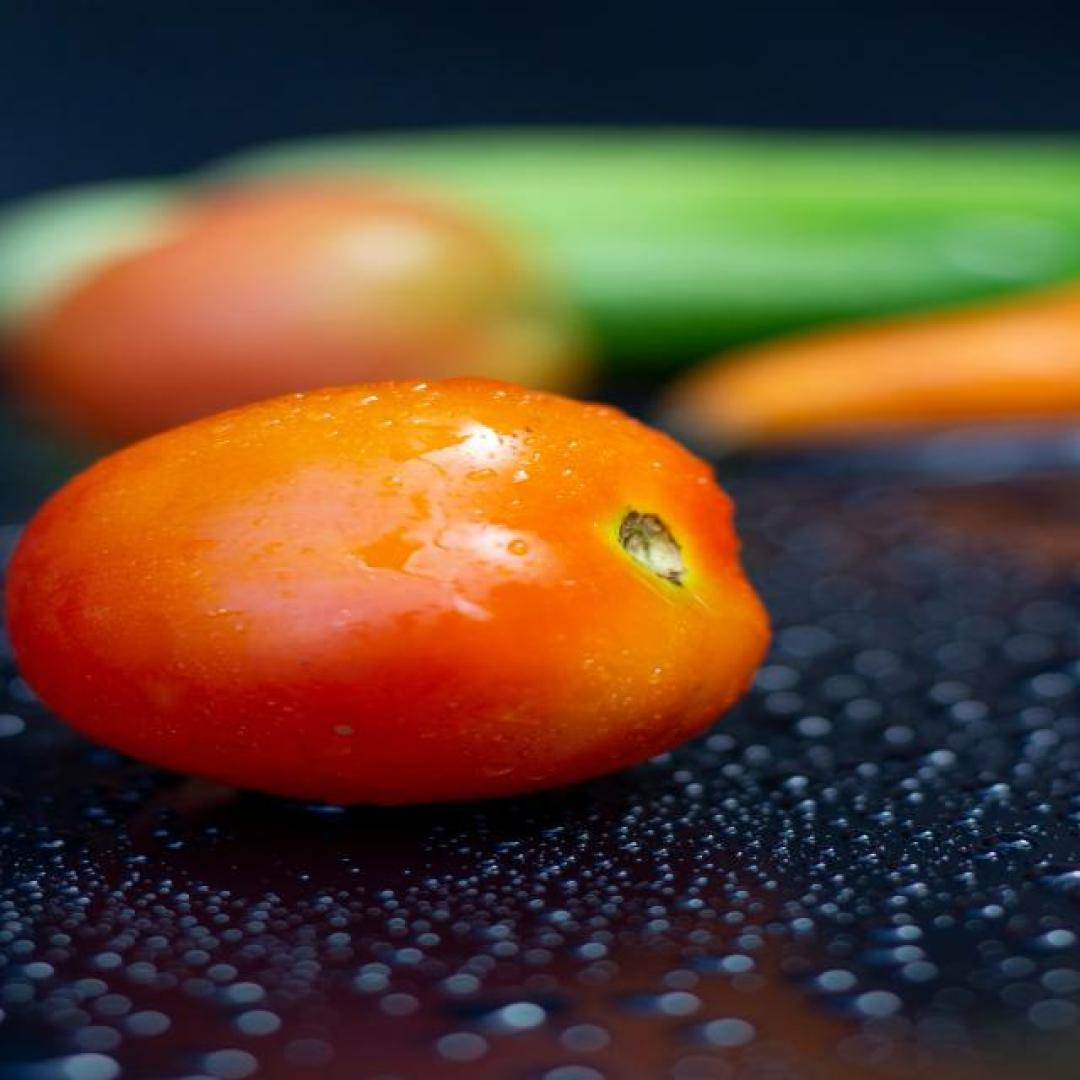matang: (3, 376, 773, 807)
